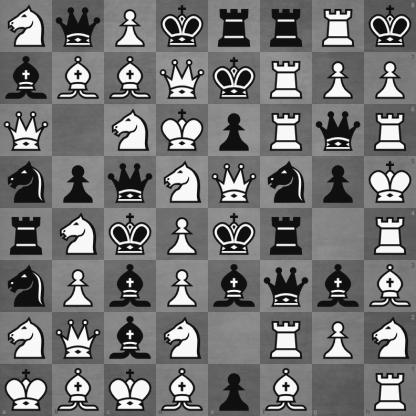B: (156, 364, 209, 416), (52, 364, 104, 416), (260, 364, 312, 416), (364, 260, 416, 312), (53, 53, 104, 104), (105, 53, 156, 104)
K: (364, 156, 416, 209), (0, 364, 52, 416), (104, 364, 156, 416), (157, 105, 208, 156)
N: (364, 312, 416, 364), (1, 1, 52, 52), (1, 313, 52, 364), (53, 209, 104, 260), (105, 105, 156, 156), (157, 157, 208, 208), (157, 313, 208, 364)
P: (364, 52, 416, 104), (53, 261, 104, 312), (105, 1, 156, 52), (157, 209, 208, 260), (157, 261, 208, 312), (313, 53, 364, 104), (313, 313, 364, 364)
Q: (1, 105, 52, 156), (53, 313, 104, 364), (157, 53, 208, 104), (209, 157, 260, 208)
R: (364, 104, 416, 156), (364, 364, 416, 416), (364, 209, 416, 260), (261, 53, 312, 104), (261, 105, 312, 156), (261, 313, 312, 364), (313, 1, 364, 52)
b: (1, 53, 52, 104), (105, 261, 156, 312), (105, 313, 156, 364), (209, 261, 260, 312), (313, 261, 364, 312)
board: (0, 0, 415, 415)
k: (364, 0, 416, 52), (105, 209, 156, 260), (157, 1, 208, 52), (209, 53, 260, 104), (209, 209, 260, 260)
n: (1, 157, 52, 208), (1, 261, 52, 312), (261, 157, 312, 208)
p: (209, 364, 260, 416), (53, 157, 104, 208), (209, 105, 260, 156), (313, 157, 364, 208)
q: (53, 1, 104, 52), (105, 157, 156, 208), (261, 261, 312, 312), (313, 105, 364, 156)
r: (1, 209, 52, 260), (209, 1, 260, 52), (261, 1, 312, 52), (261, 209, 312, 260)
